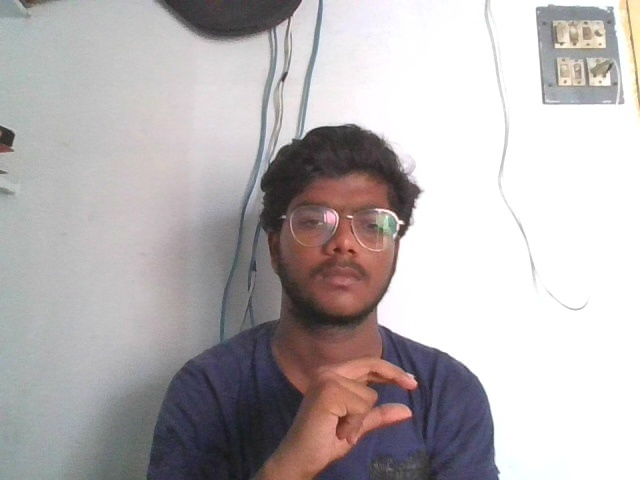No: (287, 355, 426, 453)
